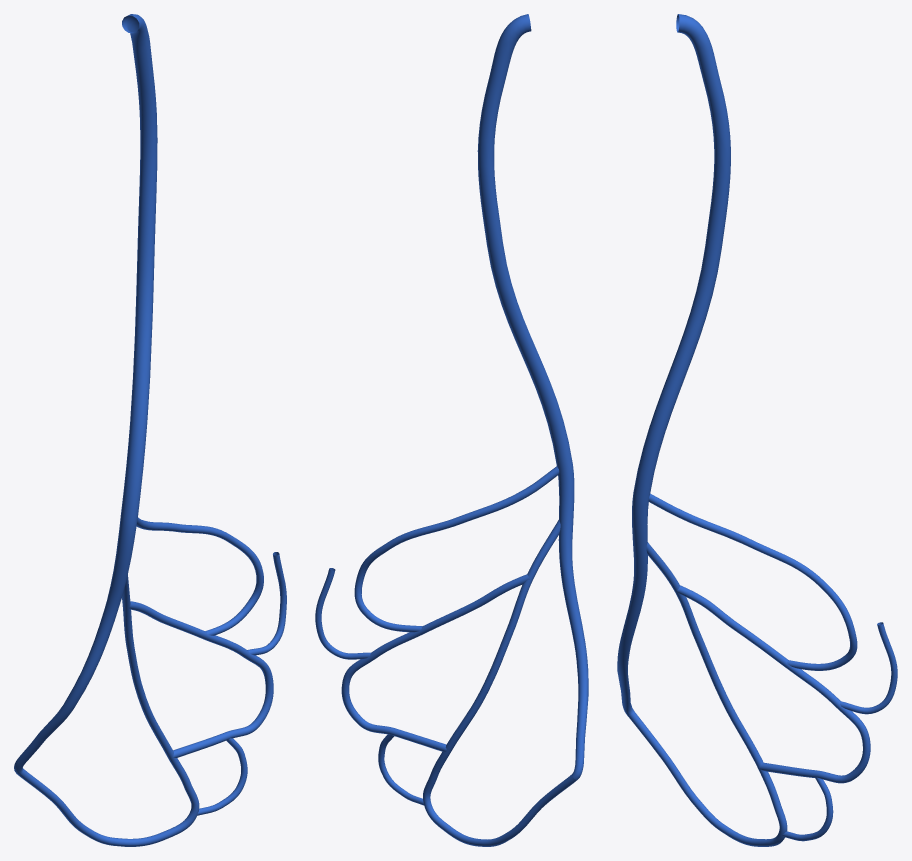
File: circulatorio-inferior-mesenteric-vein.glb
3 renders of one model, left to right at view 1: azimuth 30°, elevation 25°; view 2: azimuth 150°, elevation 25°; view 3: azimuth 330°, elevation 25°, orthographic. The views are drawn at different scales.
Parts seen in each view (by area): view 1: Inferior mesenteric vein, Sigmoid veins; view 2: Inferior mesenteric vein, Sigmoid veins; view 3: Sigmoid veins, Inferior mesenteric vein.
Part boxes in pixels (x1,y1,x2,y2): Inferior mesenteric vein: (14, 14, 157, 774); Sigmoid veins: (17, 517, 286, 846); Inferior mesenteric vein: (477, 14, 588, 779); Sigmoid veins: (315, 466, 576, 846); Sigmoid veins: (628, 493, 897, 846); Inferior mesenteric vein: (617, 14, 730, 715).
Bounding box in the file's own units: 0.0666 × 0.1985 × 0.0244.
